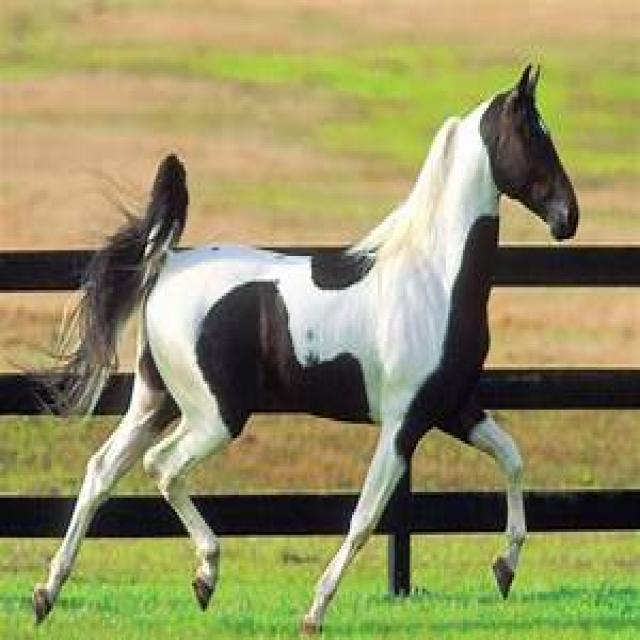horse: (32, 63, 580, 637)
